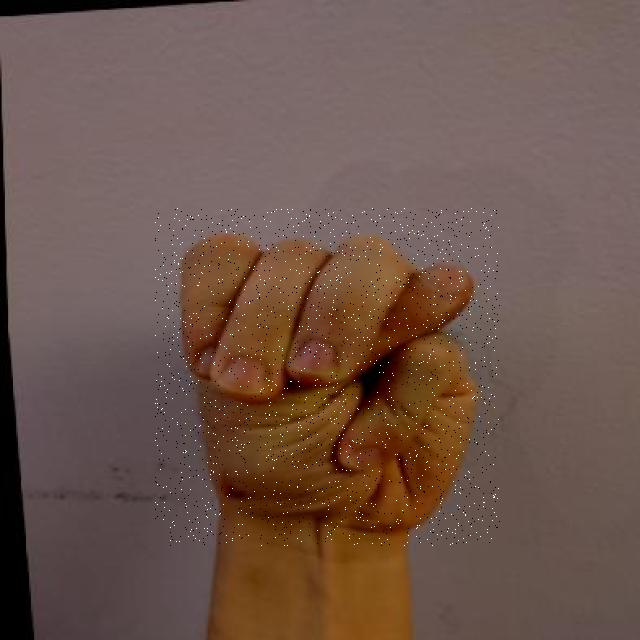M: (155, 208, 500, 546)
